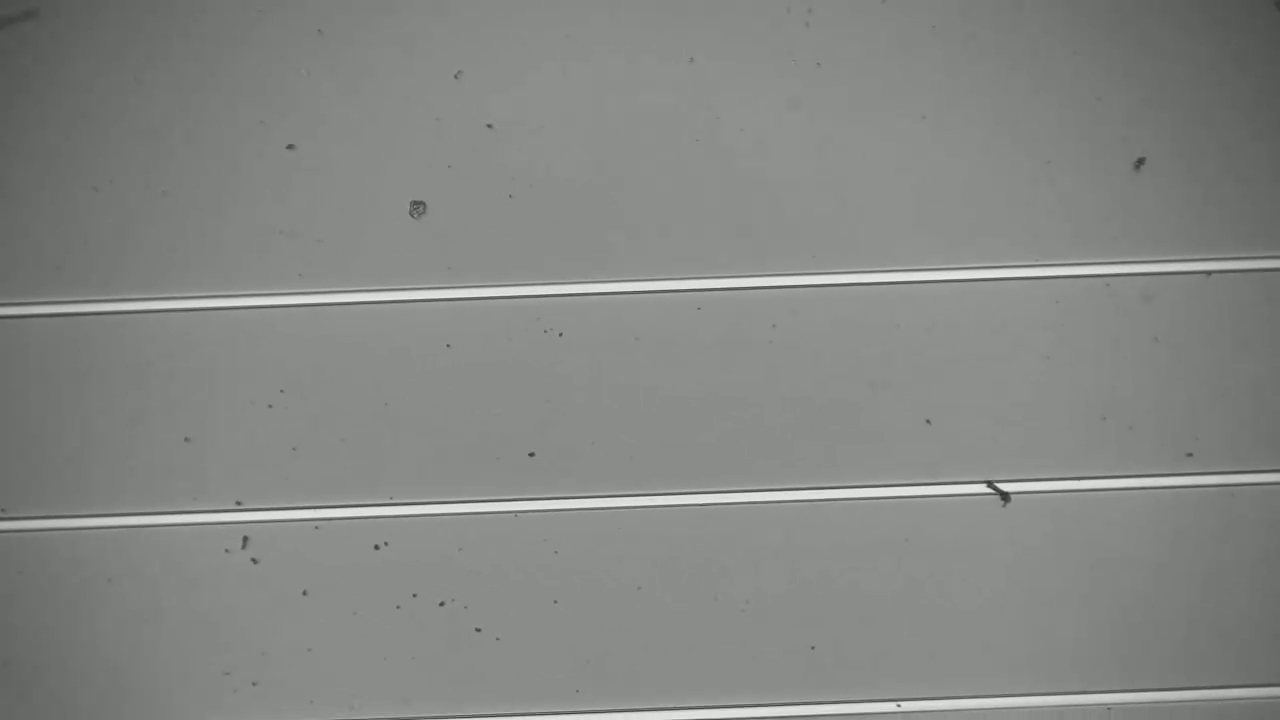stains_enbedded: (982, 474, 1024, 511)
